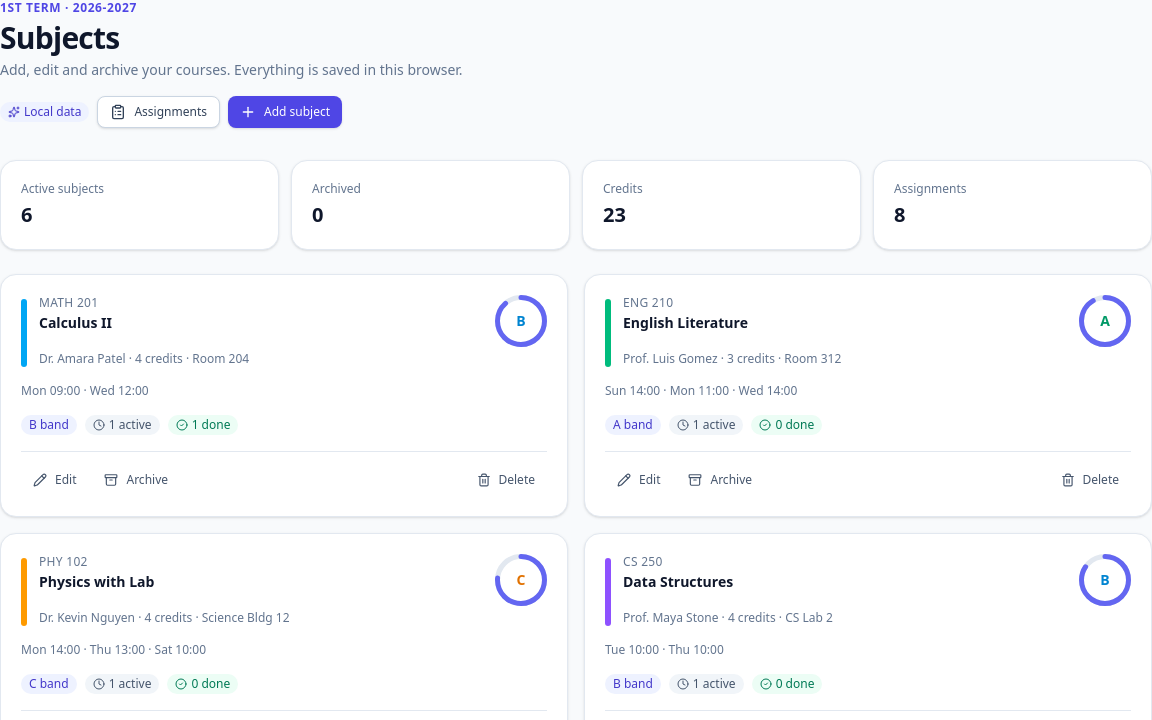
Test case: SubjectsPage › counts completed and incomplete assignments separately in the delete dialog
Note: Calculus II has 1 in-progress and 1 completed sample assignment.
Click the button with aria-label "Delete Calculus II": (506, 480) [464,464,547,496]
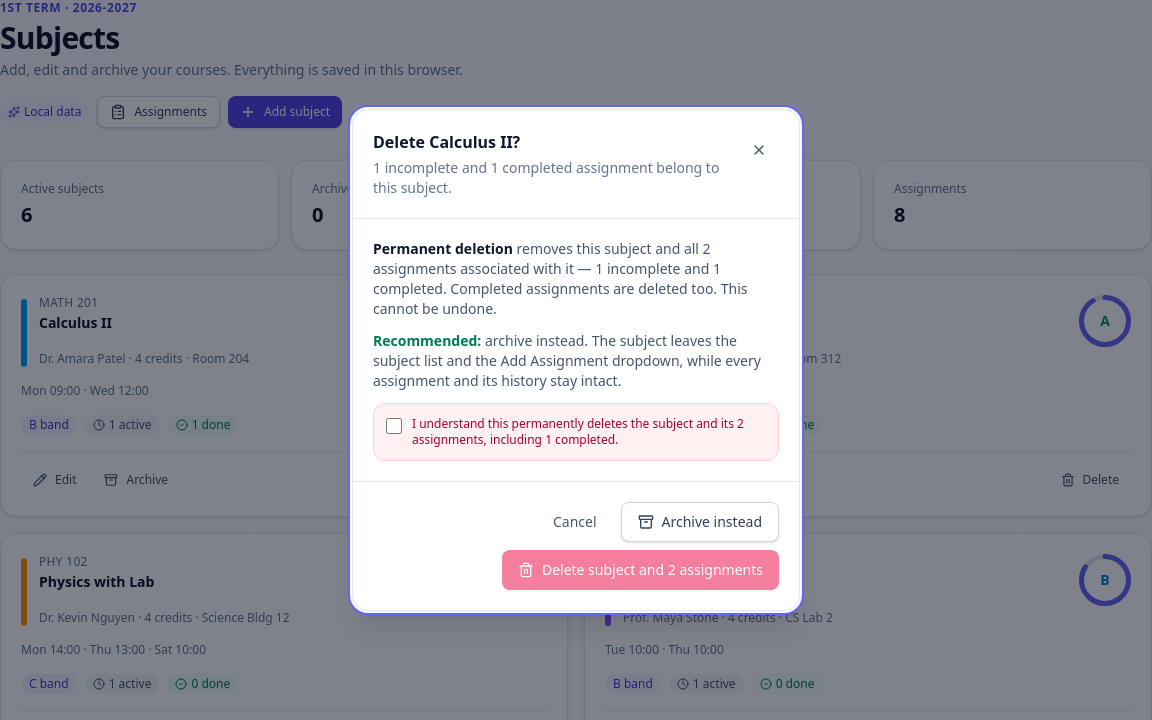
Check: the text "1 incomplete and 1 completed" is shown, box [373,158,719,197]
Check: the text "Completed assignments are deleted too" is shown, box [373,279,748,318]
Check: the text "Recommended:" is shown, box [373,331,481,350]
